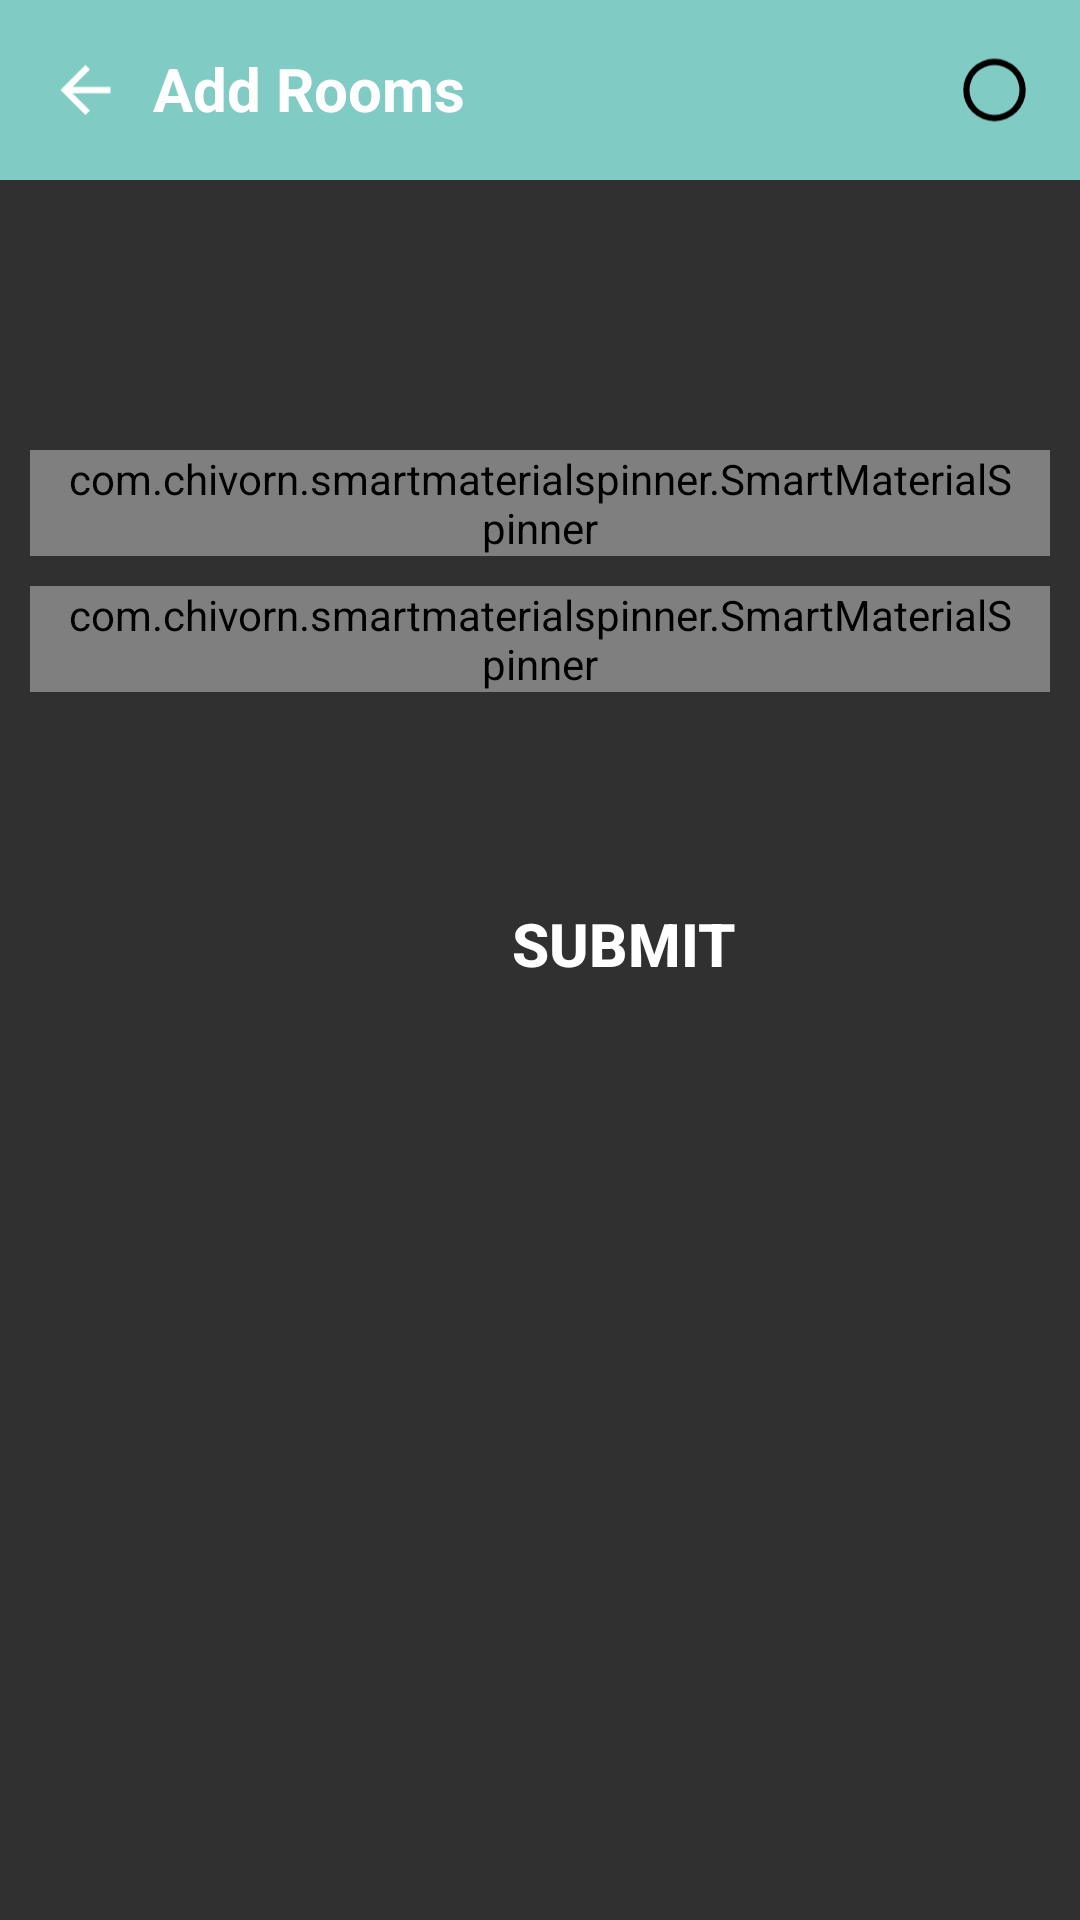

Where to tap for icons on this 1080*1920 app screen, as point (x, y):
arrow back: point (86, 90)
